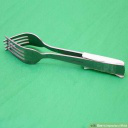fork: (1, 32, 128, 86)
